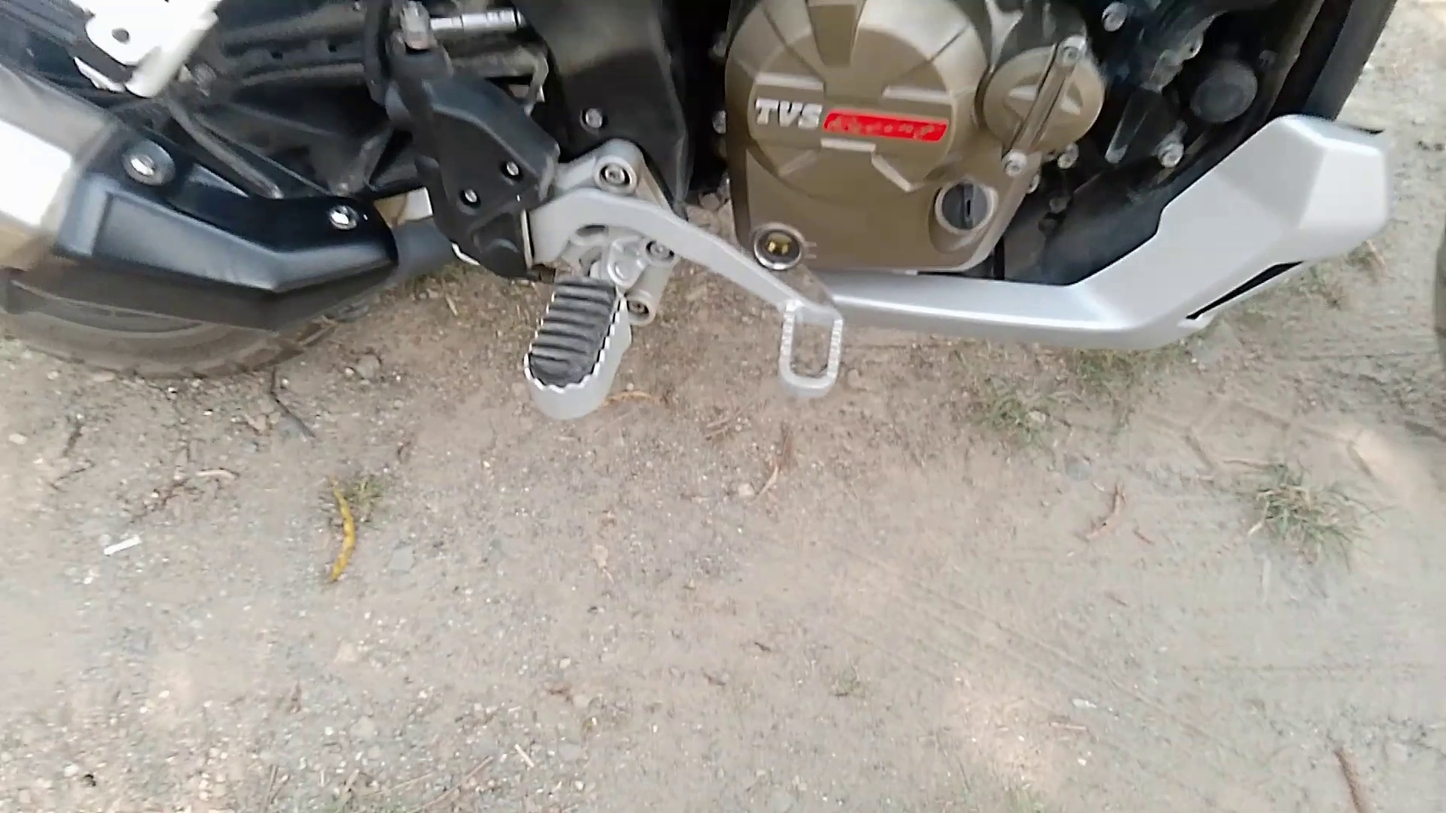engine: (721, 0, 1124, 303)
oil_cap: (930, 167, 998, 243)
oil_marker: (747, 209, 821, 279)
